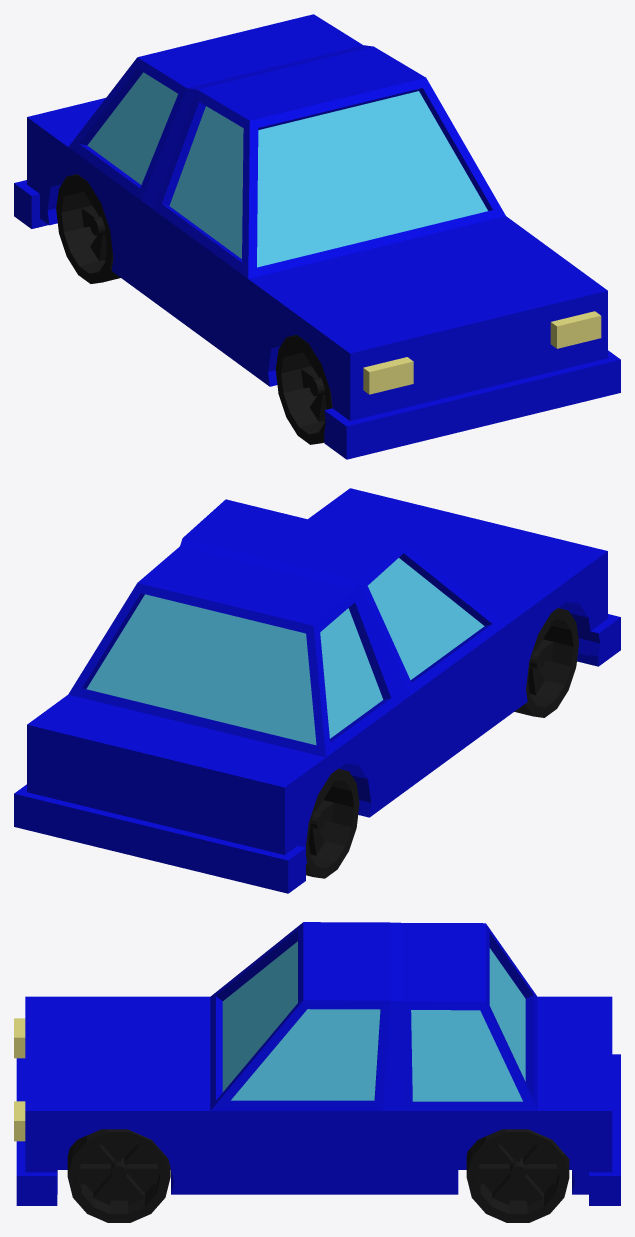
The model's file is car.fbx.
The picture shows the model from 3 angles, top to bottom: view 1: azimuth 30°, elevation 25°; view 2: azimuth 150°, elevation 25°; view 3: azimuth 270°, elevation 25°; orthographic projection. The views are drawn at different scales.
Parts seen in each view (by area): view 1: Cube, RRwheel, FRwheel, Cube.001; view 2: Cube, FRwheel, RRwheel; view 3: Cube, RLwheel, FLwheel, Cube.001.
Part boxes in pixels (box(x1,y1,x2,y2)): Cube: box(14, 14, 620, 459); RRwheel: box(56, 174, 120, 283); FRwheel: box(275, 335, 332, 444); Cube.001: box(363, 311, 601, 394); Cube: box(14, 488, 620, 893); FRwheel: box(514, 608, 578, 717); RRwheel: box(306, 768, 359, 878); Cube: box(16, 922, 620, 1205); RLwheel: box(466, 1129, 569, 1222); FLwheel: box(67, 1129, 170, 1222); Cube.001: box(14, 1018, 25, 1141).
Size of the model in its own units: 213 by 173 by 449.
